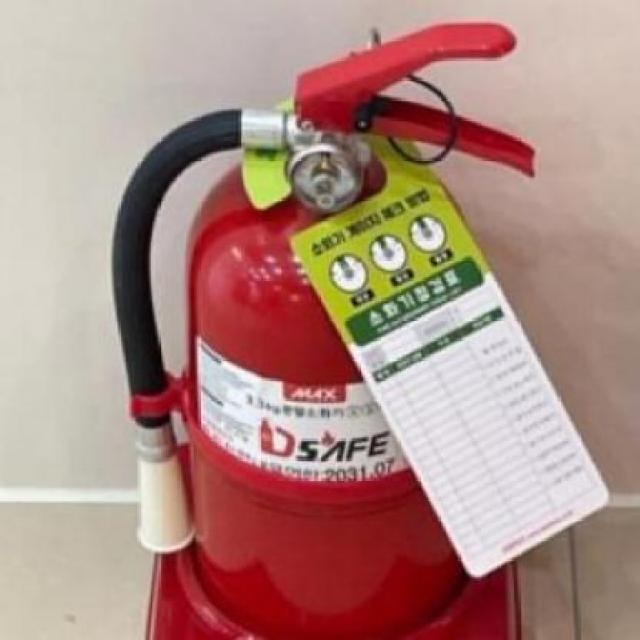fire extinguisher: (110, 21, 535, 640)
